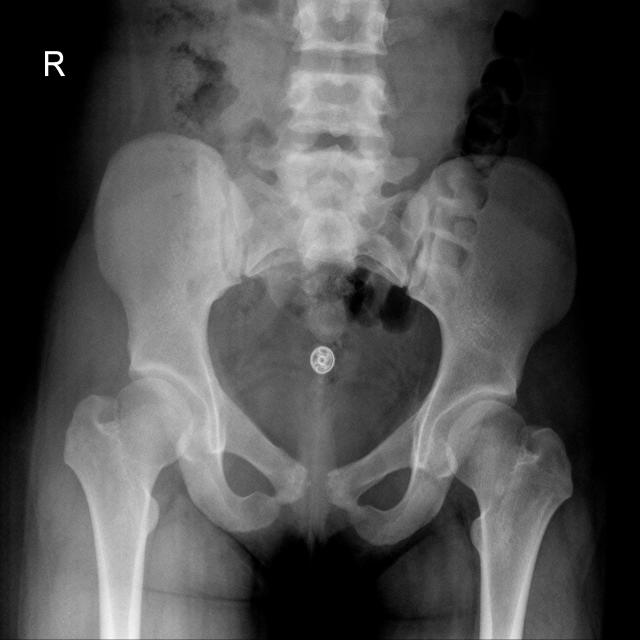normal-left: (445, 400, 573, 639)
normal-right: (64, 377, 194, 640)
